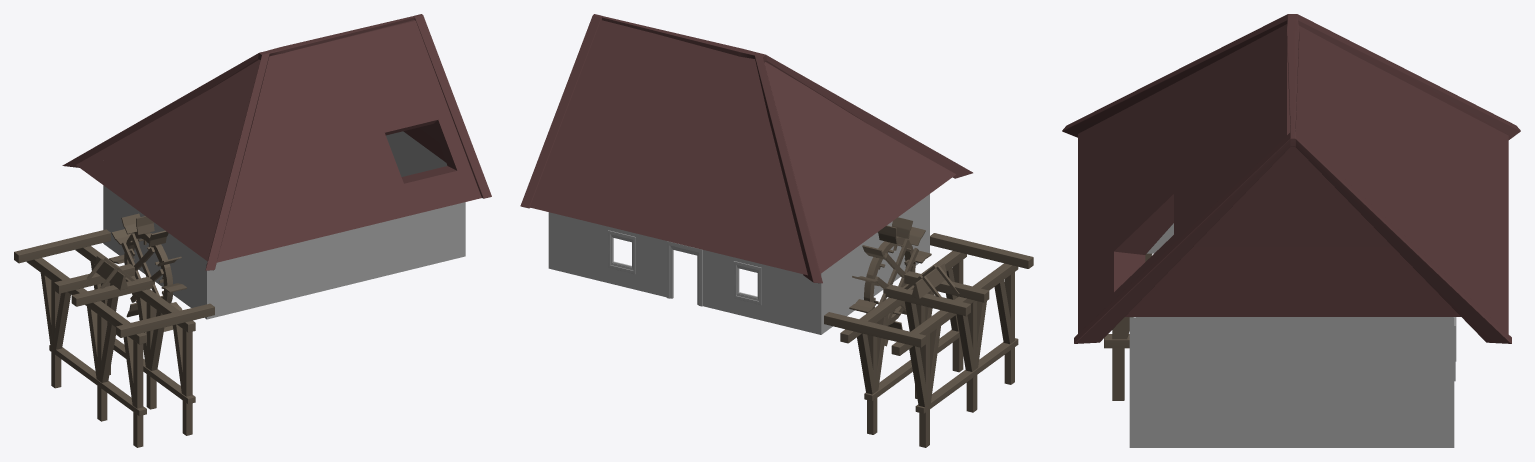
File: HouseFixedAOV8.fbx
The picture shows the model from 3 angles, left to right: view 1: azimuth 30°, elevation 25°; view 2: azimuth 150°, elevation 25°; view 3: azimuth 270°, elevation 25°; orthographic projection. The views are drawn at different scales.
Visible parts, largest first — view 1: roof, ExteriorWall, RoofTrim, BlocksTop, MillWheel, BlocksBottom, Pillar3, Pillar1, InteriorWall, Pillar4, Pillar5, Pillar (+2 smaller); view 2: roof, ExteriorWall, RoofTrim, BlocksTop, MillWheel, BlocksBottom, Pillar3, Pillar1, Pillar2, Pillar4, Blocks, Blocks1 (+2 smaller); view 3: roof, ExteriorWall, RoofTrim, Pillar5, InteriorWall.
Boxes of the visible parts, x1,y1,x2,y2 form: roof: [76, 20, 481, 262]; ExteriorWall: [103, 185, 465, 319]; RoofTrim: [62, 14, 491, 270]; BlocksTop: [26, 246, 195, 344]; MillWheel: [109, 213, 186, 331]; BlocksBottom: [49, 338, 195, 415]; Pillar3: [40, 267, 70, 388]; Pillar1: [87, 306, 115, 421]; InteriorWall: [386, 131, 447, 176]; Pillar4: [123, 336, 143, 447]; Pillar5: [172, 324, 192, 435]; Pillar: [136, 295, 164, 409]; roof: [531, 20, 955, 275]; ExteriorWall: [548, 194, 929, 334]; RoofTrim: [520, 14, 972, 283]; BlocksTop: [840, 251, 1018, 355]; MillWheel: [849, 217, 931, 346]; BlocksBottom: [864, 329, 1018, 413]; Pillar3: [909, 321, 941, 447]; Pillar1: [956, 300, 986, 412]; Pillar2: [857, 314, 888, 434]; Pillar4: [994, 272, 1014, 384]; Blocks: [930, 233, 1033, 268]; Blocks1: [824, 312, 926, 347]; roof: [1078, 24, 1508, 333]; ExteriorWall: [1129, 317, 1456, 447]; RoofTrim: [1062, 14, 1520, 343]; Pillar5: [1112, 253, 1152, 400]; InteriorWall: [1136, 223, 1452, 317].
Size of the model in its own units: 18.15 by 14.79 by 12.73.
